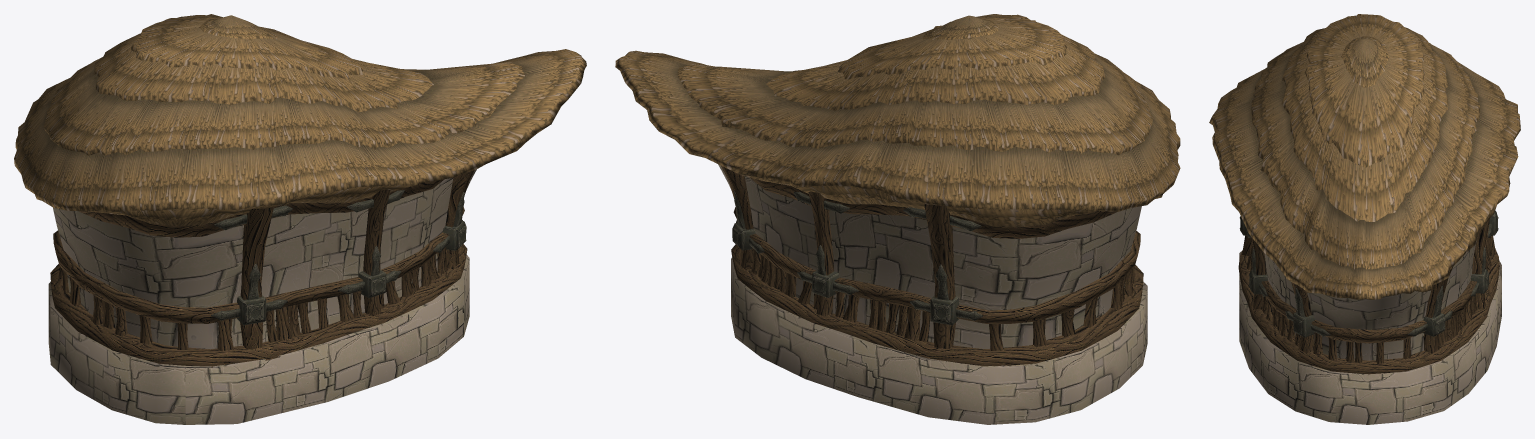
Rendered from house 3.fbx.
The picture shows the model from 3 angles, left to right: view 1: azimuth 30°, elevation 25°; view 2: azimuth 150°, elevation 25°; view 3: azimuth 270°, elevation 25°; orthographic projection. The views are drawn at different scales.
Visible parts, largest first — view 1: node_id197, node_id195, node_id193; view 2: node_id197, node_id195, node_id193; view 3: node_id197, node_id195, node_id193.
Boxes of the visible parts, x1,y1,x2,y2 form: node_id197: [14, 14, 586, 225]; node_id195: [48, 169, 476, 424]; node_id193: [50, 170, 474, 367]; node_id197: [615, 14, 1180, 227]; node_id195: [718, 164, 1147, 424]; node_id193: [721, 166, 1143, 366]; node_id197: [1209, 14, 1520, 299]; node_id195: [1239, 237, 1501, 424]; node_id193: [1238, 210, 1499, 374].
Bounding box in the file's own units: 0.512 × 0.3004 × 0.2926.
3 materials, 3 textured.
